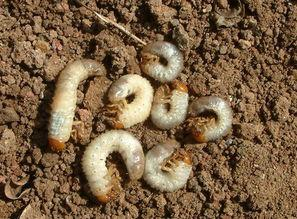grub: (77, 130, 148, 200)
